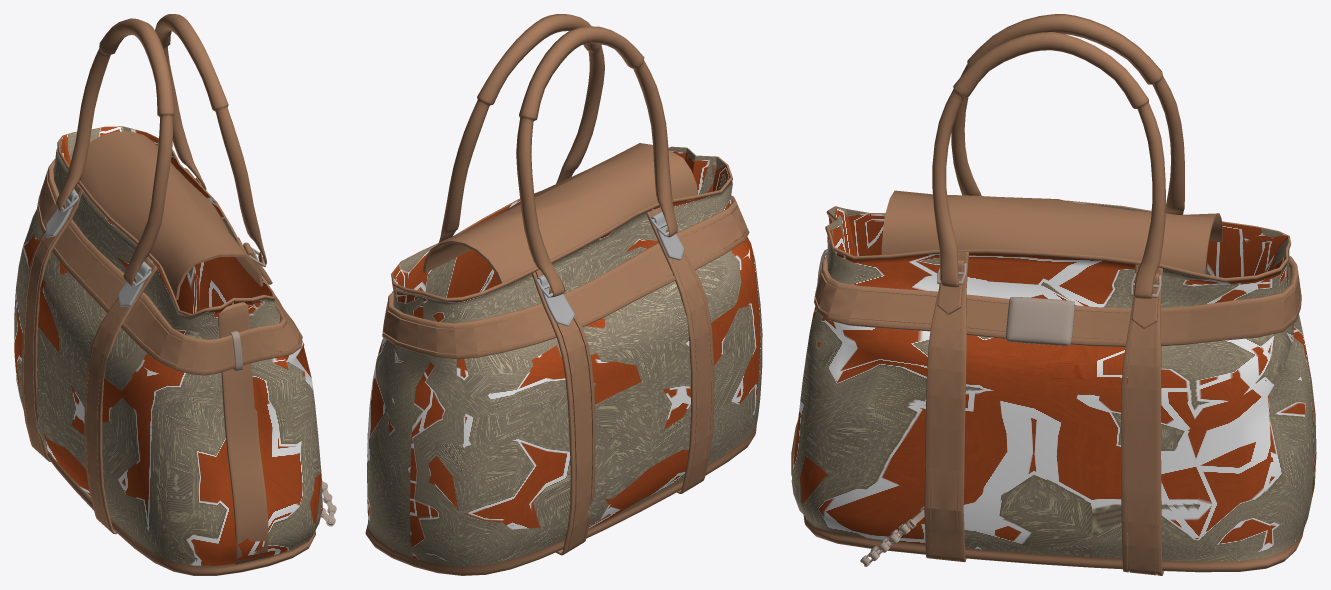
Rendered from handbag_1.fbx.
The picture shows the model from 3 angles, left to right: view 1: azimuth 30°, elevation 25°; view 2: azimuth 150°, elevation 25°; view 3: azimuth 270°, elevation 25°; orthographic projection. The views are drawn at different scales.
Visible parts, largest first — view 1: handbag_1; view 2: handbag_1; view 3: handbag_1.
Part boxes in pixels (box(x1,y1,x2,y2)): handbag_1: box(14, 14, 336, 575); handbag_1: box(365, 14, 762, 575); handbag_1: box(791, 14, 1316, 575).
Size of the model in its own units: 0.5295 by 1.06 by 1.01.
